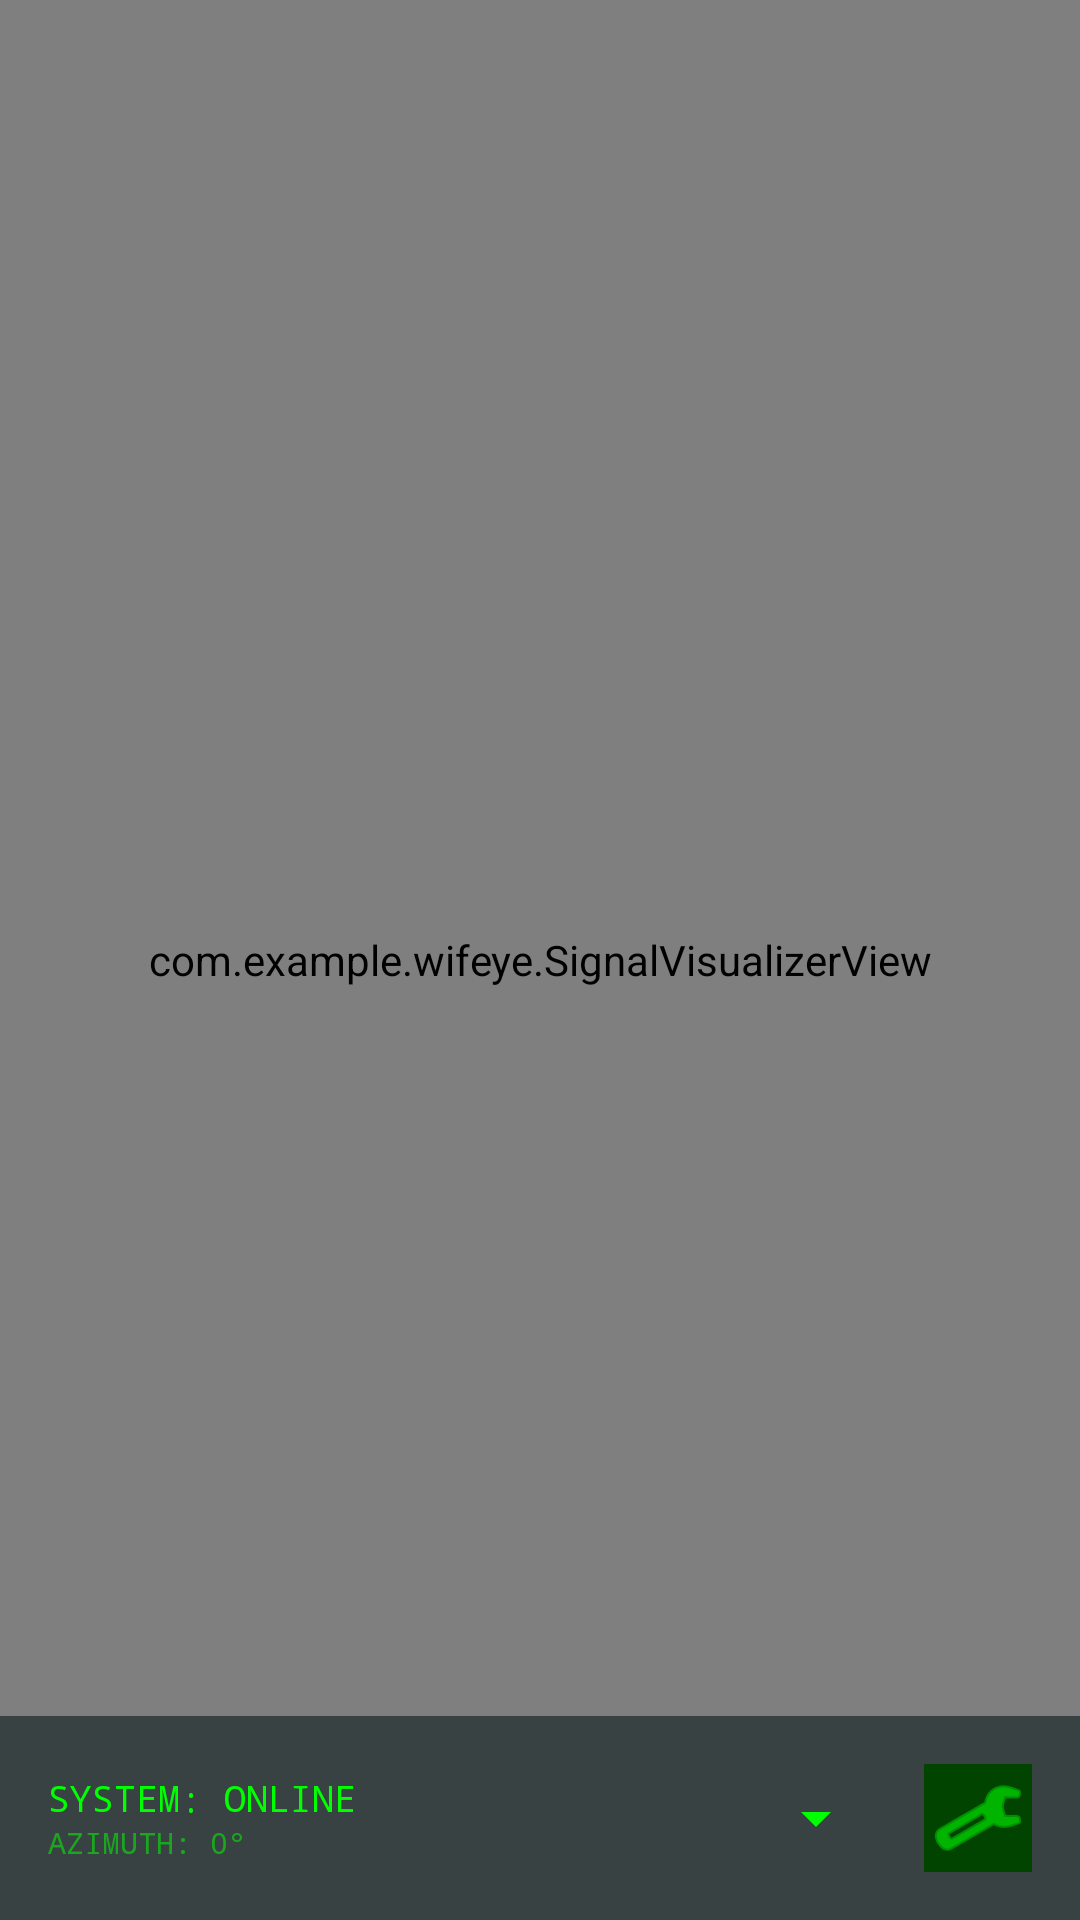

Named icons in this screenshot (1080w x 1920h) and their centers, (x=x, y=y):
Settings: (x=978, y=1818)
